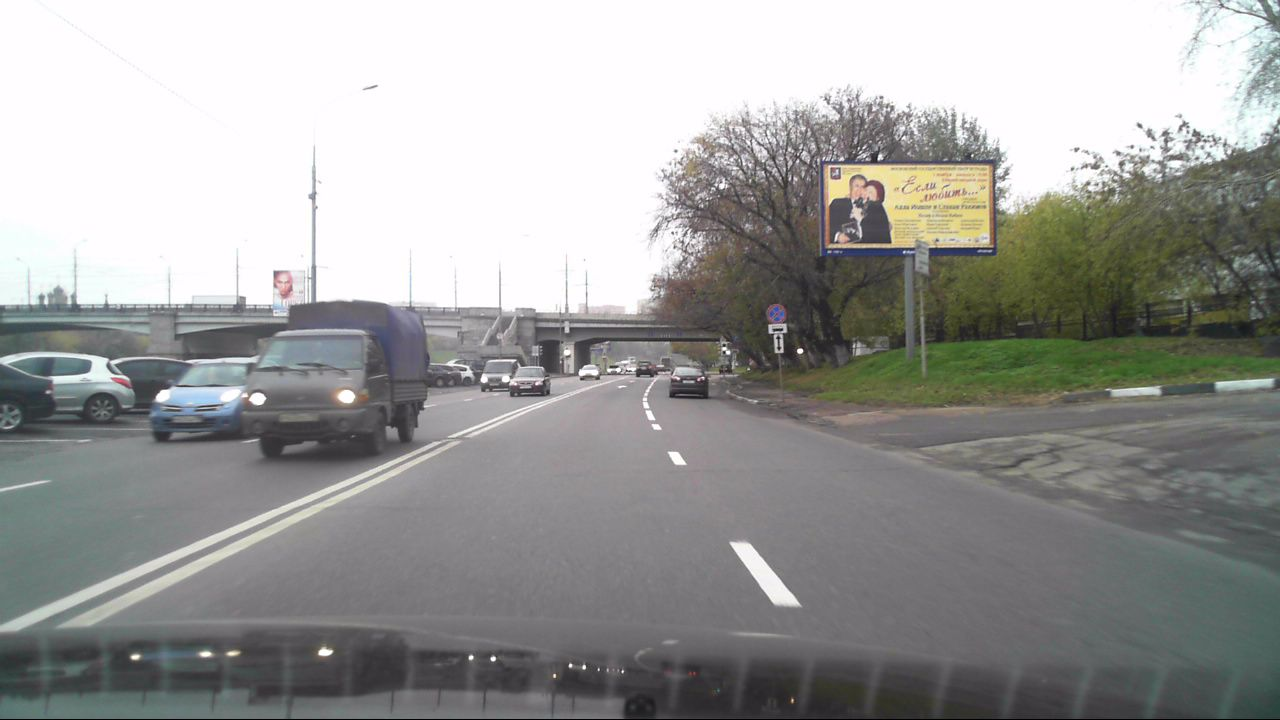No Parking: (765, 302, 788, 322)
